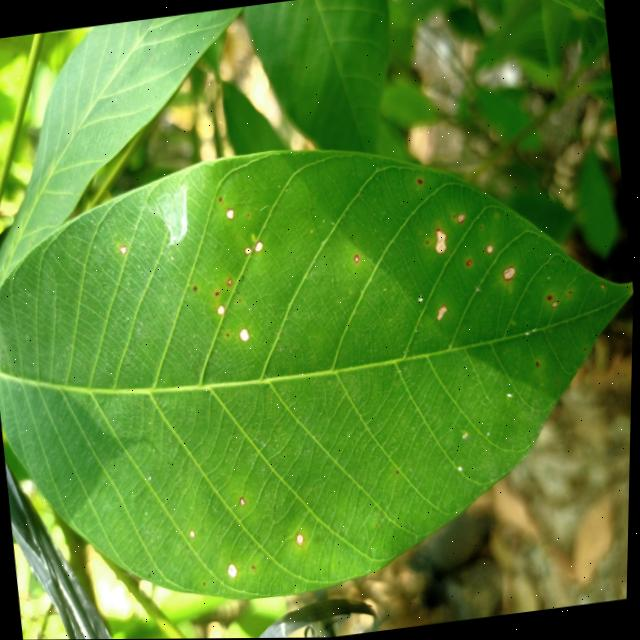Colletotrichum: (503, 265, 517, 282), (228, 562, 240, 577), (239, 327, 251, 342), (253, 239, 264, 252), (297, 531, 307, 544), (226, 207, 235, 219), (217, 303, 226, 315), (457, 213, 466, 224), (485, 244, 494, 255), (354, 253, 361, 264), (121, 244, 128, 255), (244, 245, 252, 254), (227, 277, 234, 286), (466, 258, 473, 267), (241, 496, 247, 505), (192, 528, 198, 537), (552, 300, 559, 307), (547, 294, 554, 301), (418, 178, 424, 185), (215, 290, 221, 295), (194, 285, 200, 290), (537, 361, 541, 366), (427, 240, 429, 244)
